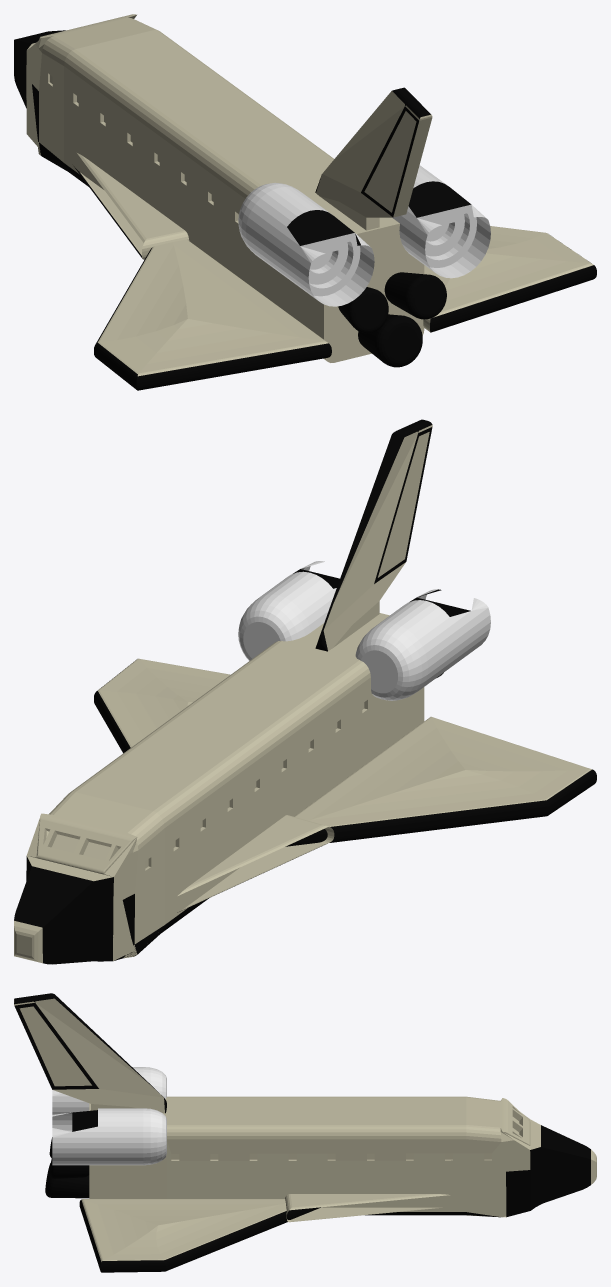
File: スペースシャトル2.fbx
The picture shows the model from 3 angles, top to bottom: view 1: azimuth 30°, elevation 25°; view 2: azimuth 150°, elevation 25°; view 3: azimuth 270°, elevation 25°; orthographic projection. The views are drawn at different scales.
Parts seen in each view (by area): view 1: 立方体, 平面, 円柱.014, 平面.002, 円柱.015, 平面.001, 円柱.013, 円柱.012, 円柱.011; view 2: 立方体, 平面, 平面.002, 円柱.014, 円柱.015, 平面.001; view 3: 立方体, 平面, 平面.002, 円柱.015, 平面.001, 円柱.014, 円柱.013, 円柱.012.
Part boxes in pixels (<box>): 立方体: <box>14,14,424,362</box>; 平面: <box>94,226,596,390</box>; 円柱.014: <box>238,182,374,306</box>; 平面.002: <box>315,87,432,230</box>; 円柱.015: <box>392,165,490,278</box>; 平面.001: <box>74,153,189,259</box>; 円柱.013: <box>358,314,422,367</box>; 円柱.012: <box>384,272,446,319</box>; 円柱.011: <box>338,287,388,333</box>; 立方体: <box>14,613,424,964</box>; 平面: <box>94,658,596,846</box>; 平面.002: <box>315,419,432,651</box>; 円柱.014: <box>355,589,490,700</box>; 円柱.015: <box>238,561,339,660</box>; 平面.001: <box>177,815,334,912</box>; 立方体: <box>89,1096,596,1217</box>; 平面: <box>79,1199,320,1272</box>; 平面.002: <box>14,993,166,1113</box>; 円柱.015: <box>52,1108,166,1165</box>; 平面.001: <box>285,1194,449,1222</box>; 円柱.014: <box>52,1067,166,1114</box>; 円柱.013: <box>45,1163,89,1198</box>; 円柱.012: <box>49,1157,89,1178</box>.
Size of the model in its own units: 3481 by 2053 by 5263.
